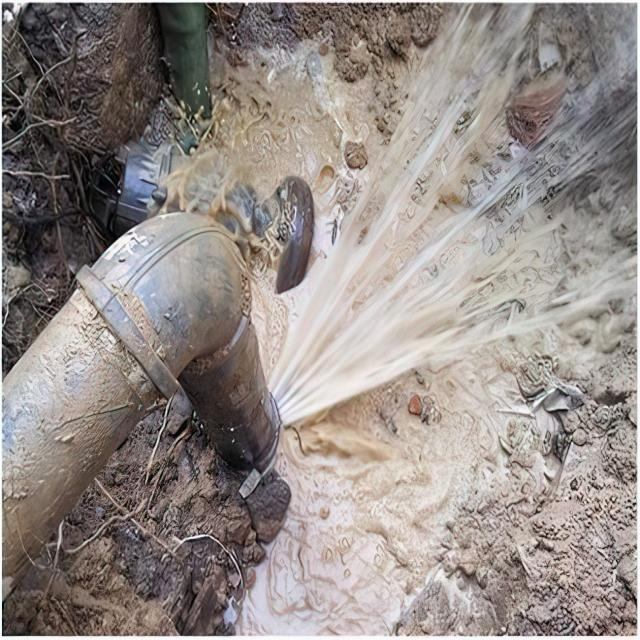leak: (269, 5, 636, 424)
